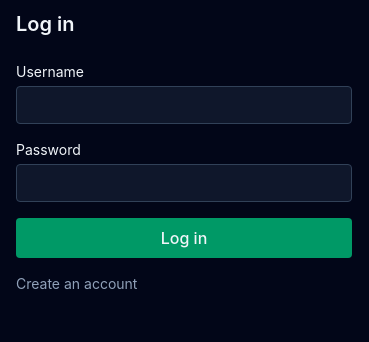
Test: CredentialsPage › shows the error messages from the API
Type "owen" into the field labelled "Username" at (184, 105), box top-left (16, 86), bottom-right (352, 124)
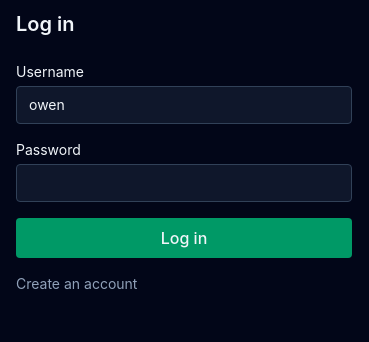
Type "wrong" into the password field labelled "Password" at (184, 183), box top-left (16, 164), bottom-right (352, 202)
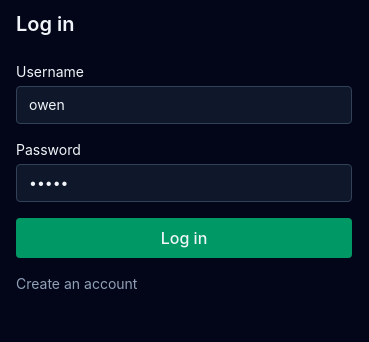
Click the button "Log in" at (184, 238), box top-left (16, 218), bottom-right (352, 258)
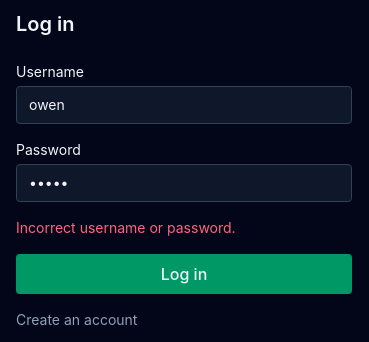
Now the message reads "Incorrect username or password.", box top-left (16, 219), bottom-right (236, 236)
